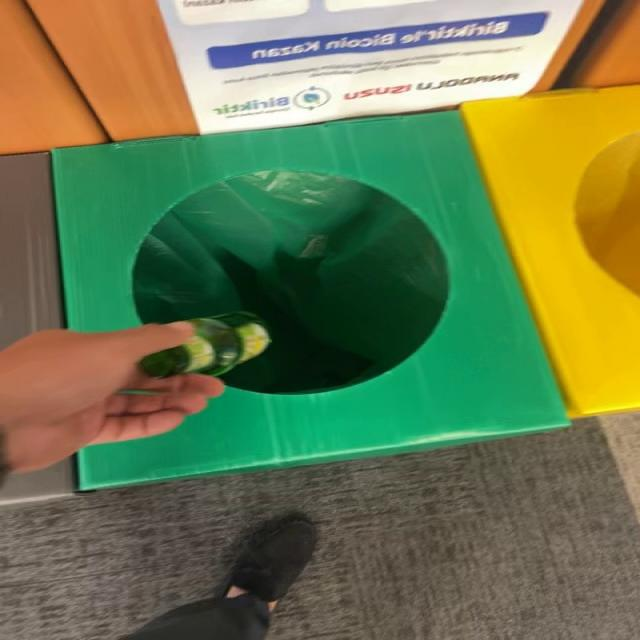glass: (139, 312, 269, 378)
